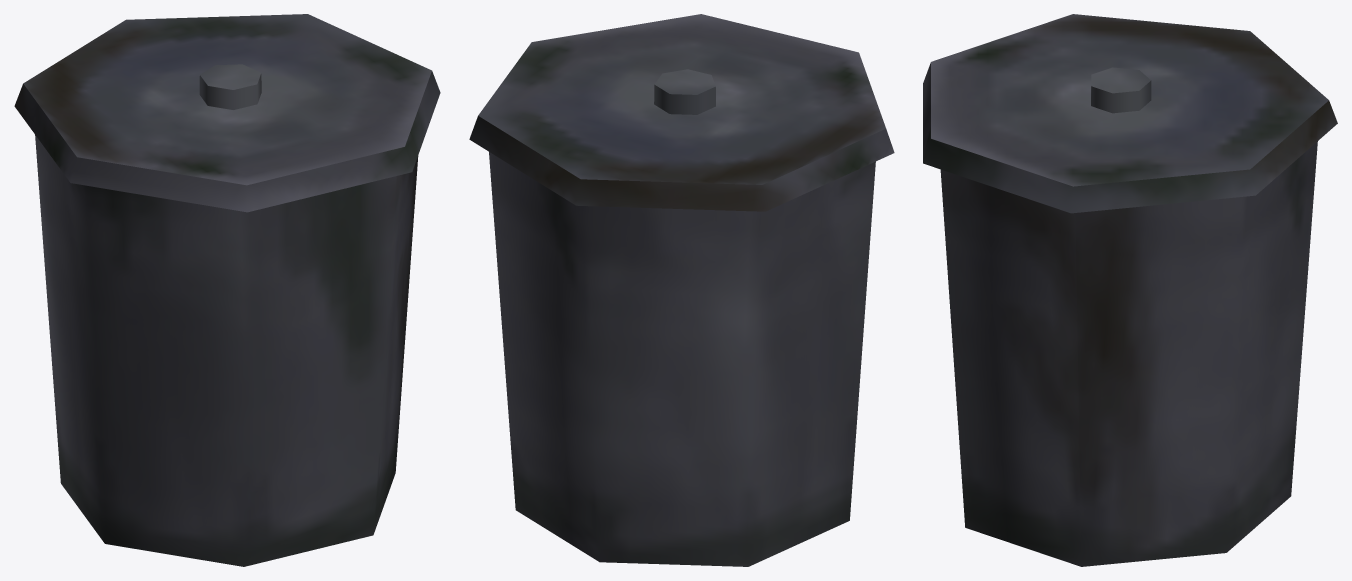
File: Mesh_Garbage.fbx
3 views of the same model, side by side, from view 1: azimuth 30°, elevation 25°; view 2: azimuth 150°, elevation 25°; view 3: azimuth 270°, elevation 25° (orthographic).
Parts seen in each view (by area): view 1: GarbageCan, GarbageTop; view 2: GarbageCan, GarbageTop; view 3: GarbageCan, GarbageTop.
Part boxes in pixels (bbox=[...]): GarbageCan: bbox=[35, 135, 418, 566]; GarbageTop: bbox=[14, 14, 440, 212]; GarbageCan: bbox=[489, 152, 875, 566]; GarbageTop: bbox=[469, 14, 894, 211]; GarbageCan: bbox=[940, 141, 1317, 566]; GarbageTop: bbox=[923, 14, 1337, 213].
Size of the model in its own units: 1.16 by 1.25 by 1.13.
Materials: 1 (1 with a texture image).
